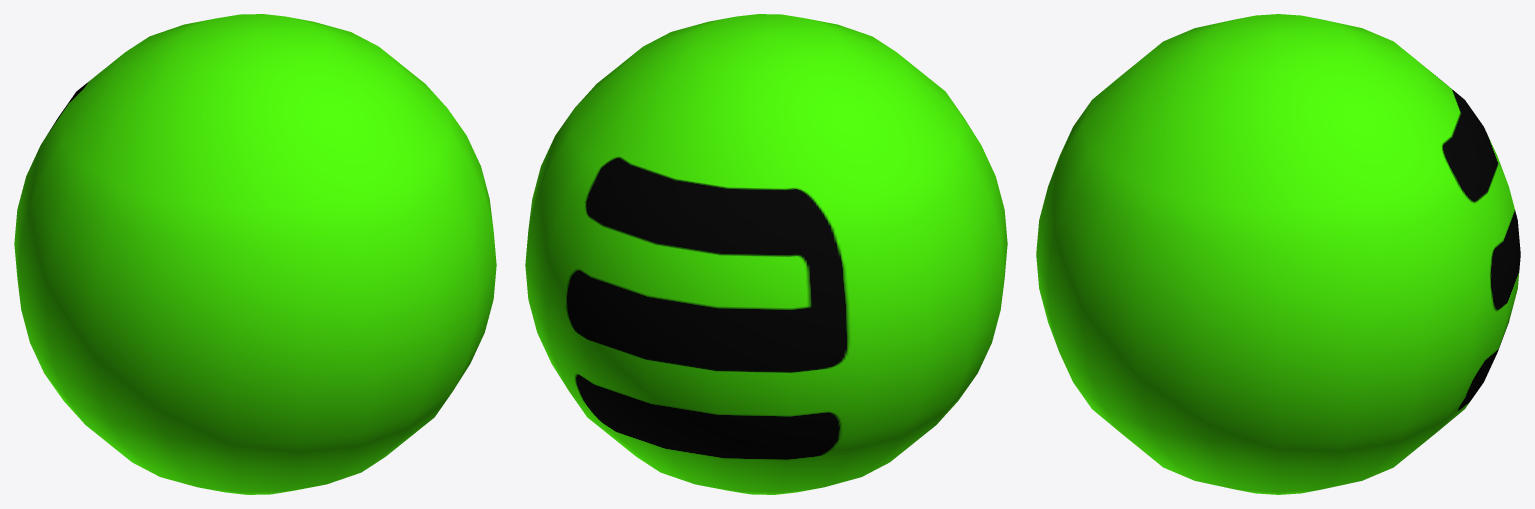
The model's file is energy.obj.
3 views of the same model, side by side, from view 1: azimuth 30°, elevation 25°; view 2: azimuth 150°, elevation 25°; view 3: azimuth 270°, elevation 25° (orthographic).
Visible parts, largest first — view 1: pSphere1; view 2: pSphere1; view 3: pSphere1.
Part boxes in pixels (left/top/right/bottom): pSphere1: left=14, top=14, right=496, bottom=494; pSphere1: left=525, top=14, right=1007, bottom=494; pSphere1: left=1036, top=14, right=1520, bottom=494.
Bounding box in the file's own units: 6.69 × 6.69 × 6.69.
1 material, 1 textured.
